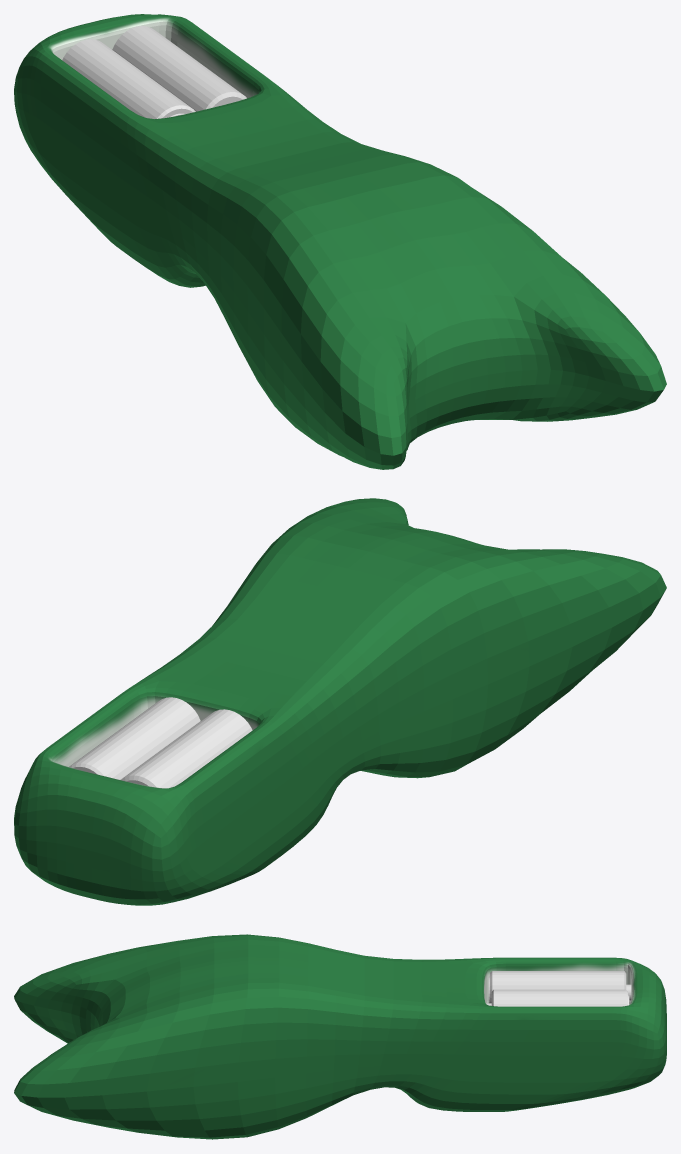
File: Taser1v2.fbx
3 views of the same model, one above another, from view 1: azimuth 30°, elevation 25°; view 2: azimuth 150°, elevation 25°; view 3: azimuth 270°, elevation 25° (orthographic). The views are drawn at different scales.
Parts seen in each view (by area): view 1: Plane, Cylinder, Cylinder.001; view 2: Plane, Cylinder, Cylinder.001; view 3: Plane, Cylinder.001, Cylinder.
Boxes of the visible parts, box(x1,y1,x2,y2) form: Plane: box(14, 14, 666, 469); Cylinder: box(112, 26, 246, 111); Cylinder.001: box(62, 39, 195, 118); Plane: box(14, 498, 666, 905); Cylinder: box(69, 697, 200, 779); Cylinder.001: box(121, 709, 252, 788); Plane: box(14, 934, 666, 1139); Cylinder.001: box(488, 971, 631, 1003); Cylinder: box(486, 989, 629, 1006).
Bounding box in the file's own units: 365 × 241 × 946.
